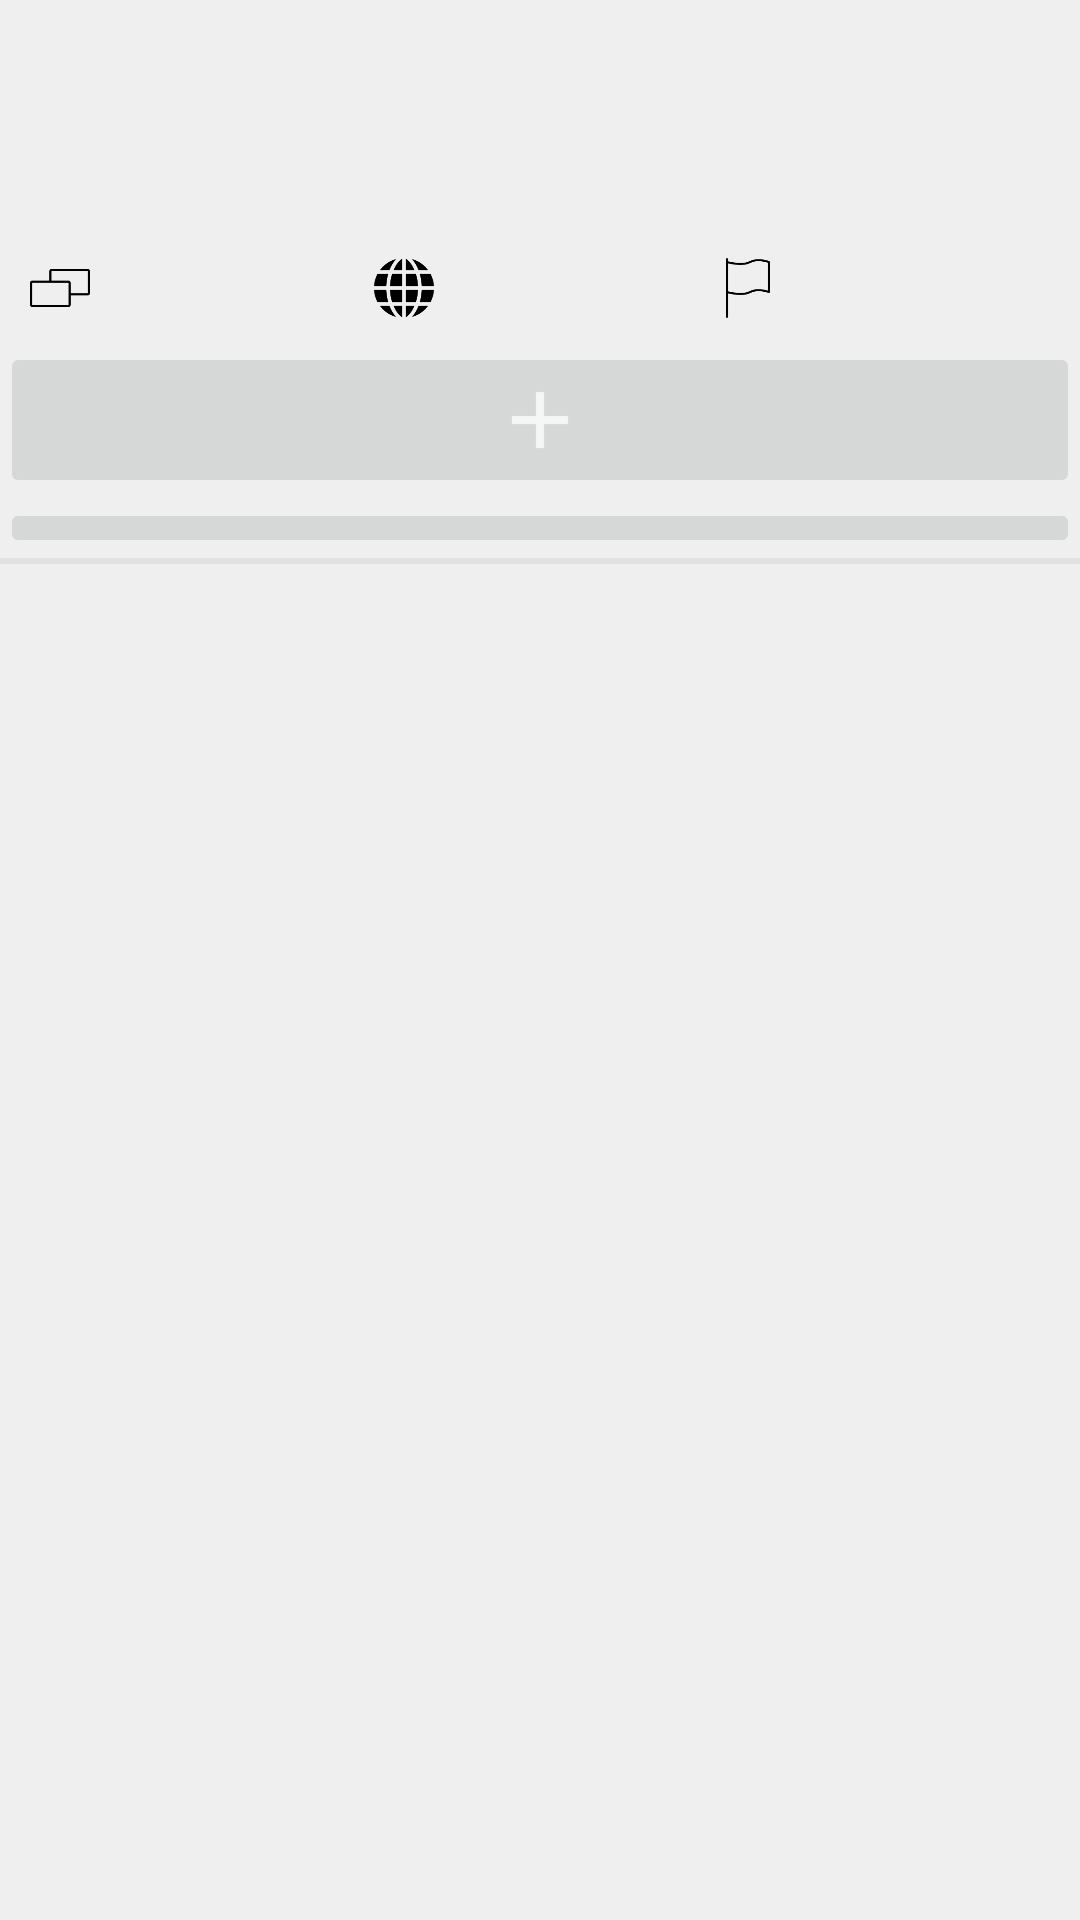

Named icons in this screenshot (1080x1920) and their bounding boxes, [x1,y1,x2,y2]:
category: [30,269,90,307]
